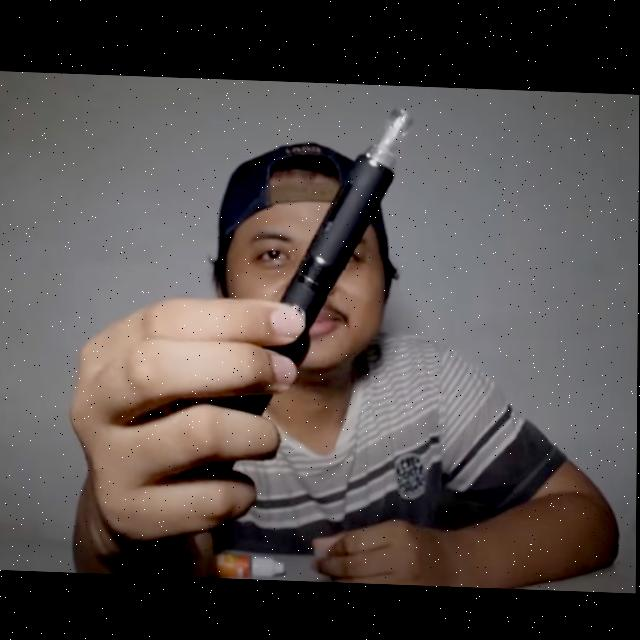vape: (284, 99, 417, 328)
